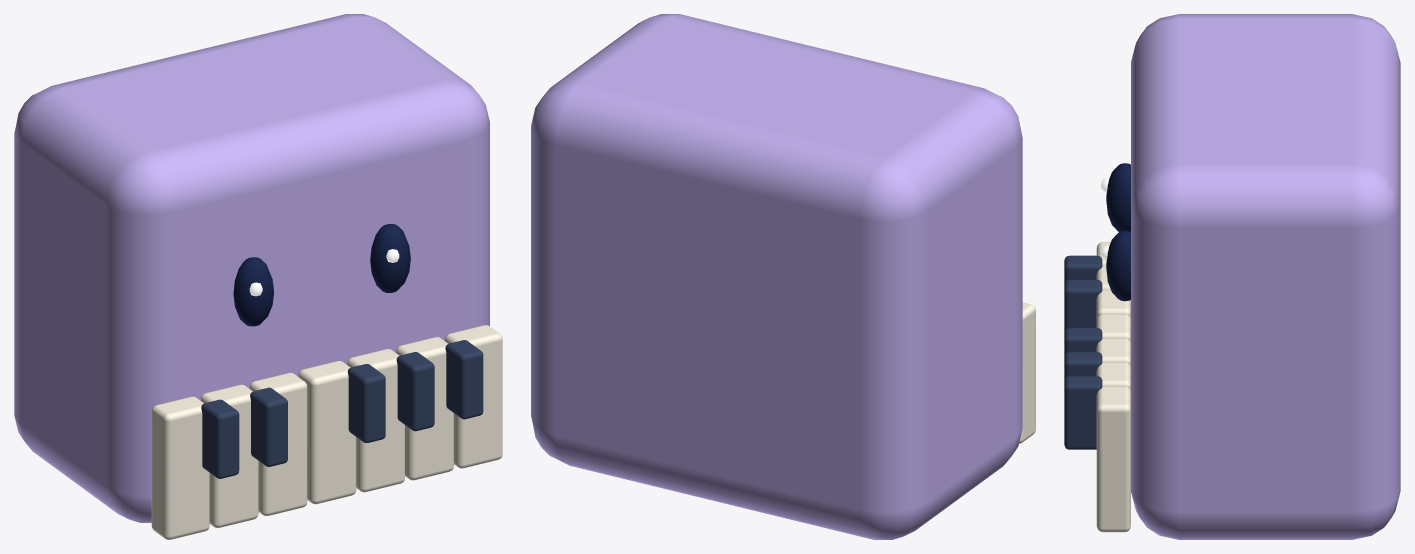
Rendered from piano.glb.
The picture shows the model from 3 angles, left to right: view 1: azimuth 30°, elevation 25°; view 2: azimuth 150°, elevation 25°; view 3: azimuth 270°, elevation 25°; orthographic projection. The views are drawn at different scales.
Parts seen in each view (by area): view 1: Body, Eyes; view 2: Body; view 3: Body, Eyes.
Boxes of the visible parts, x1,y1,x2,y2 form: Body: (14, 14, 502, 539); Eyes: (233, 224, 410, 326); Body: (531, 14, 1035, 539); Body: (1064, 14, 1400, 539); Eyes: (1101, 163, 1130, 301).
Size of the model in its own units: 0.116 by 0.108 by 0.0885.
